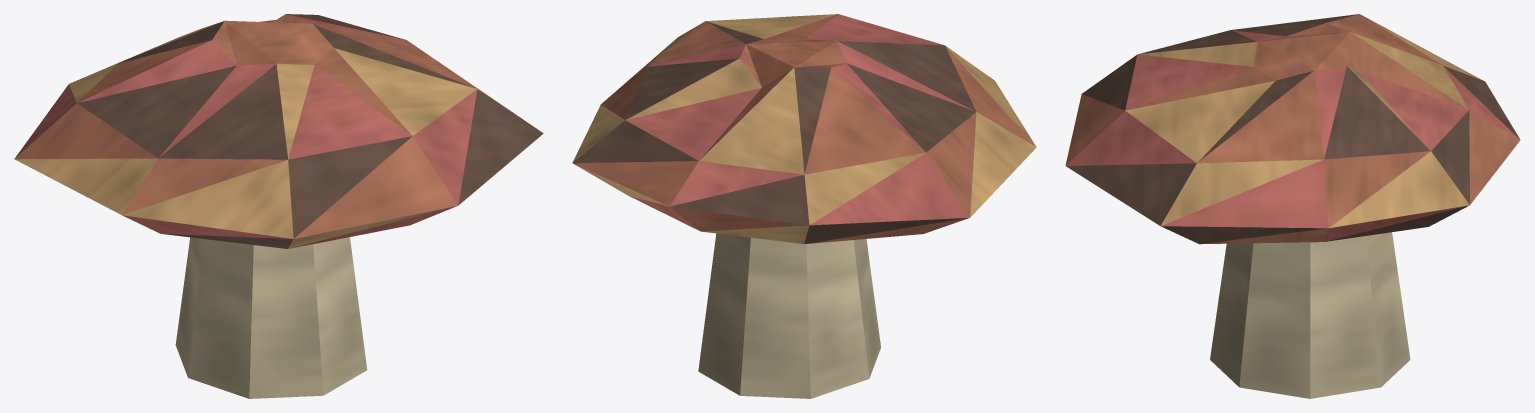
Rendered from mushroom_small_set_03.fbx.
3 views of the same model, side by side, from view 1: azimuth 30°, elevation 25°; view 2: azimuth 150°, elevation 25°; view 3: azimuth 270°, elevation 25° (orthographic). The views are drawn at different scales.
Visible parts, largest first — view 1: mushroom_small_set_03; view 2: mushroom_small_set_03; view 3: mushroom_small_set_03.
Part boxes in pixels (x1,y1,x2,y2): mushroom_small_set_03: [14, 14, 543, 398]; mushroom_small_set_03: [572, 14, 1036, 398]; mushroom_small_set_03: [1065, 14, 1520, 398].
Bounding box in the file's own units: 23.47 × 17.6 × 23.
1 material, 1 textured.
